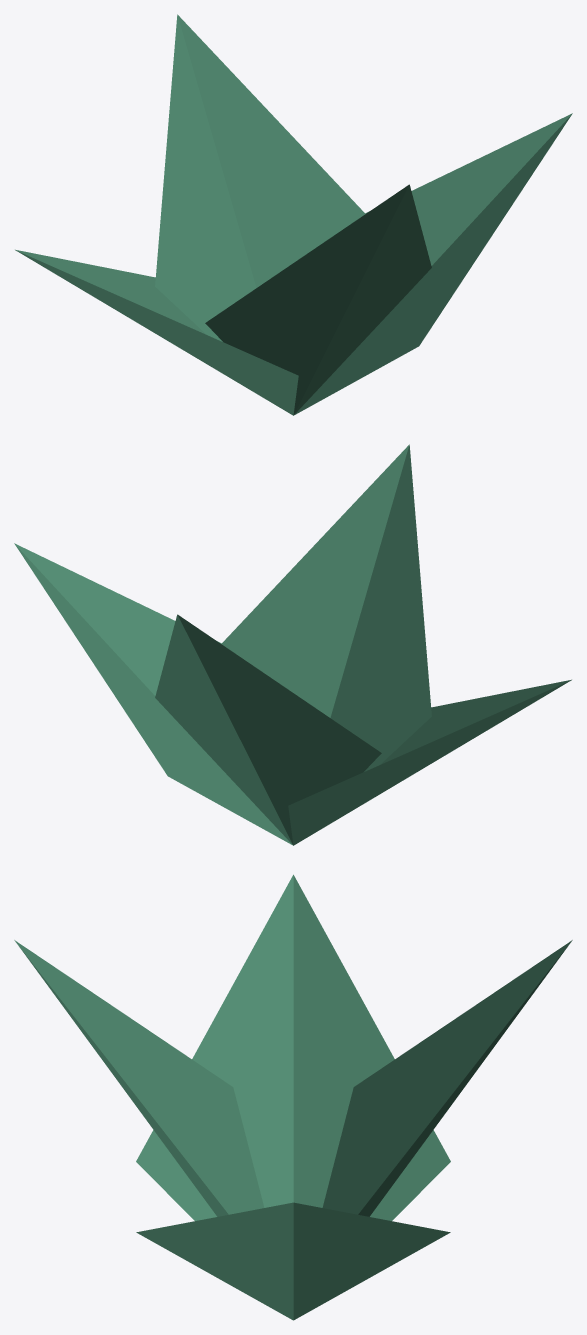
The model's file is naturePack_flat_012.fbx.
3 views of the same model, one above another, from view 1: azimuth 30°, elevation 25°; view 2: azimuth 150°, elevation 25°; view 3: azimuth 270°, elevation 25° (orthographic). The views are drawn at different scales.
Parts seen in each view (by area): view 1: Mesh4_Group1 Model, Mesh3_Group1 Model, Mesh2_Group1 Model, Mesh1_Group1 Model; view 2: Mesh3_Group1 Model, Mesh4_Group1 Model, Mesh2_Group1 Model, Mesh1_Group1 Model; view 3: Mesh1_Group1 Model, Mesh2_Group1 Model, Mesh3_Group1 Model, Mesh4_Group1 Model.
Part boxes in pixels (bbox=[...]): Mesh4_Group1 Model: bbox=[155, 14, 365, 341]; Mesh3_Group1 Model: bbox=[205, 184, 431, 414]; Mesh2_Group1 Model: bbox=[294, 113, 572, 415]; Mesh1_Group1 Model: bbox=[15, 249, 298, 415]; Mesh3_Group1 Model: bbox=[221, 444, 431, 771]; Mesh4_Group1 Model: bbox=[155, 614, 381, 844]; Mesh2_Group1 Model: bbox=[14, 543, 292, 845]; Mesh1_Group1 Model: bbox=[288, 679, 571, 845]; Mesh1_Group1 Model: bbox=[136, 874, 450, 1220]; Mesh2_Group1 Model: bbox=[136, 1202, 450, 1320]; Mesh3_Group1 Model: bbox=[14, 940, 264, 1216]; Mesh4_Group1 Model: bbox=[322, 940, 572, 1216].
Bounding box in the file's own units: 1.04 × 0.5602 × 0.7451.
